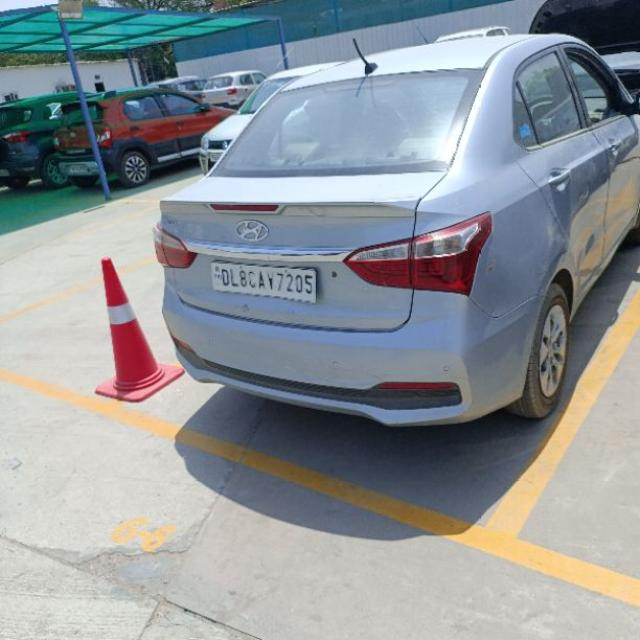license_plate: (209, 260, 318, 304)
